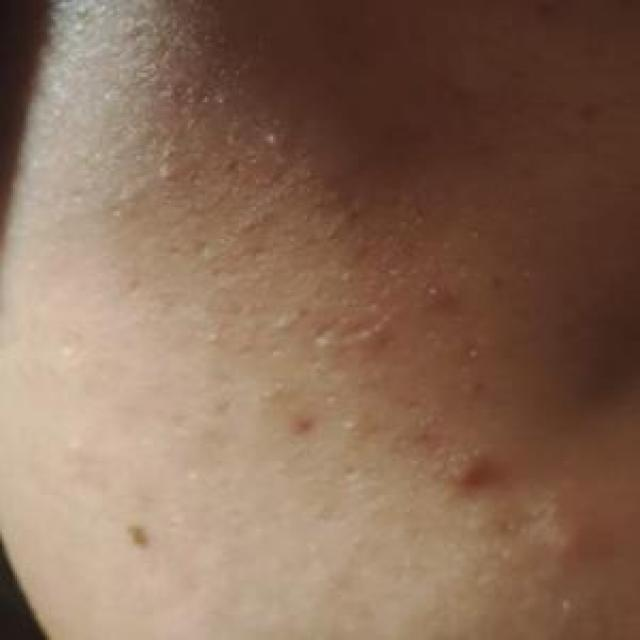dry: (419, 6, 640, 370), (28, 0, 390, 177)
